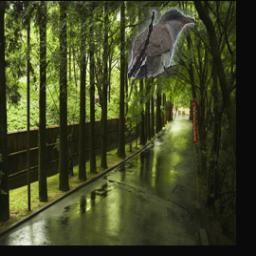Cuckoo: (128, 8, 194, 79)
